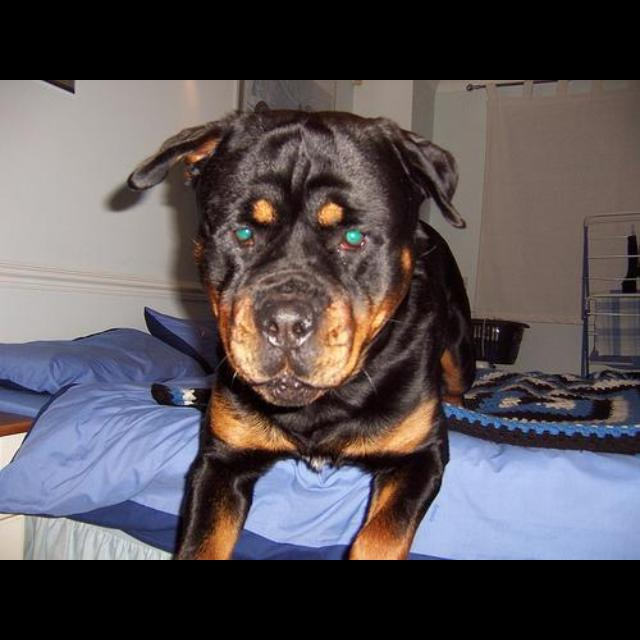rottweiler: (127, 101, 477, 560)
